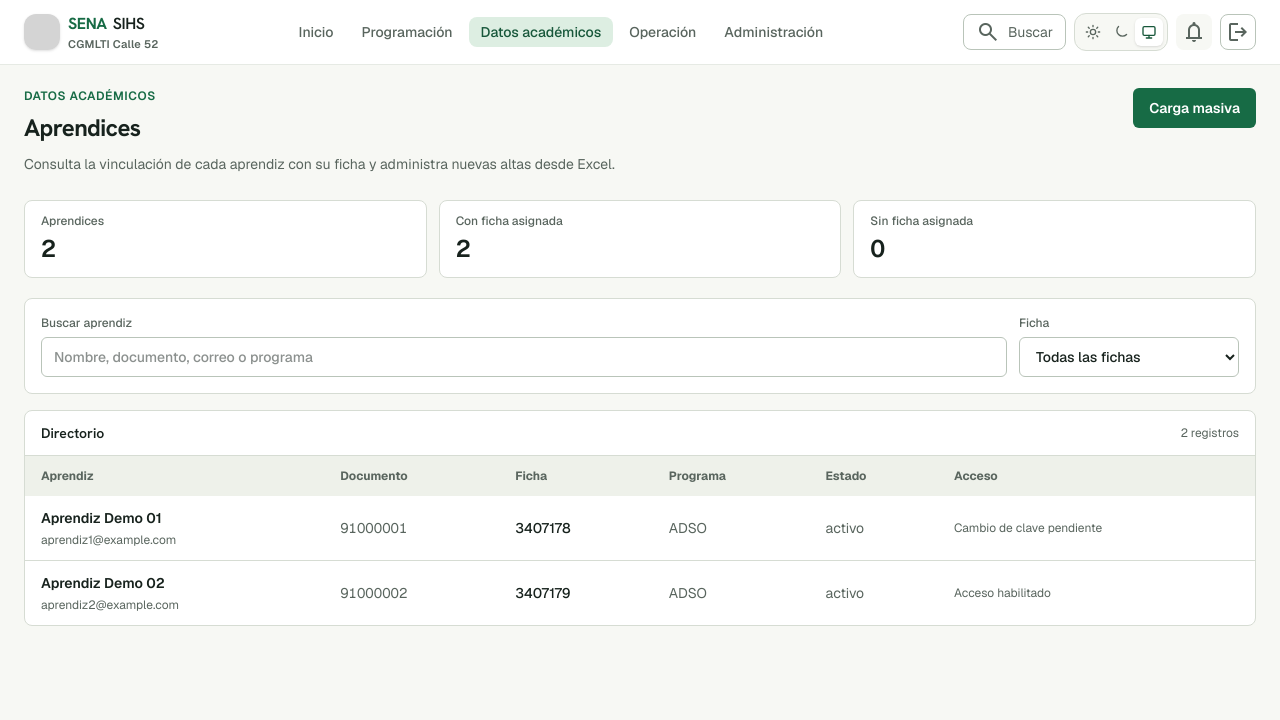
Test case: Aprendices › filtra por ficha sin perder el listado original
Expected: the text "Aprendiz Demo 01" is shown, [41,509,162,527]
Select "3407179" in the dropdown labelled "Ficha" at (1129, 357), box [1019,337,1239,377]
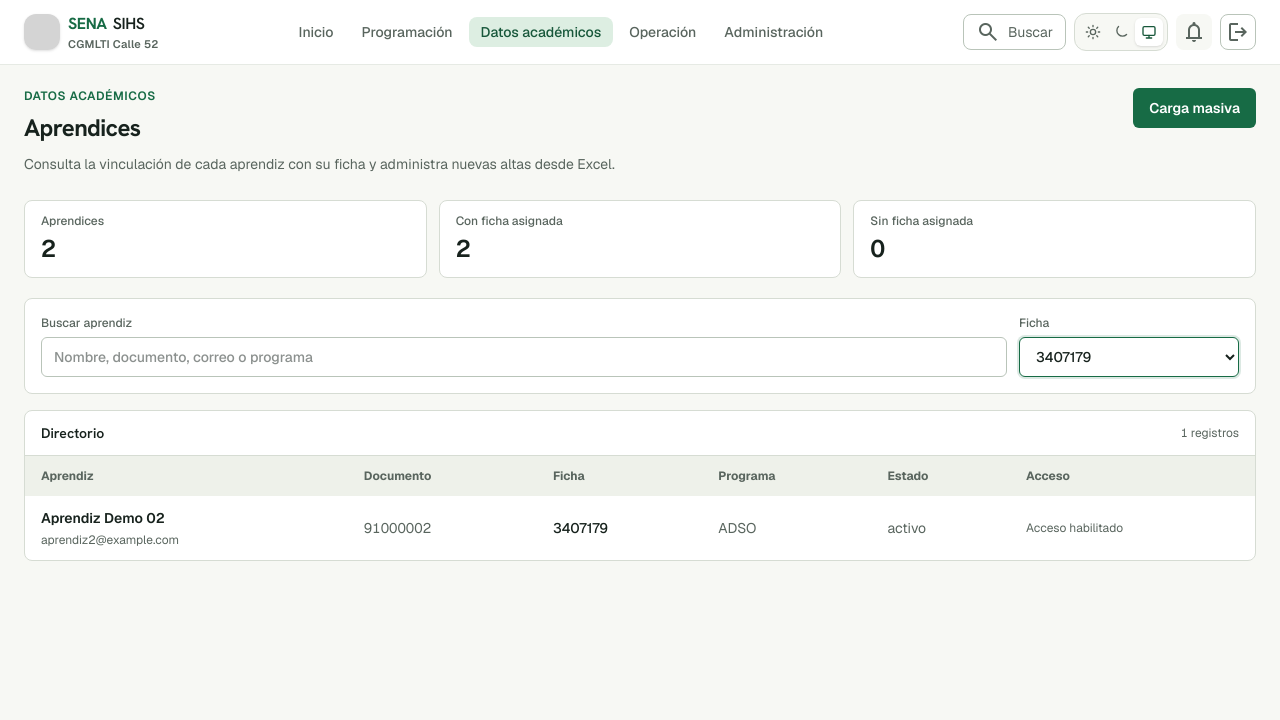
Expected: the text "Aprendiz Demo 02" is shown, [41,509,165,527]
Result: the text "Aprendiz Demo 01" is gone
